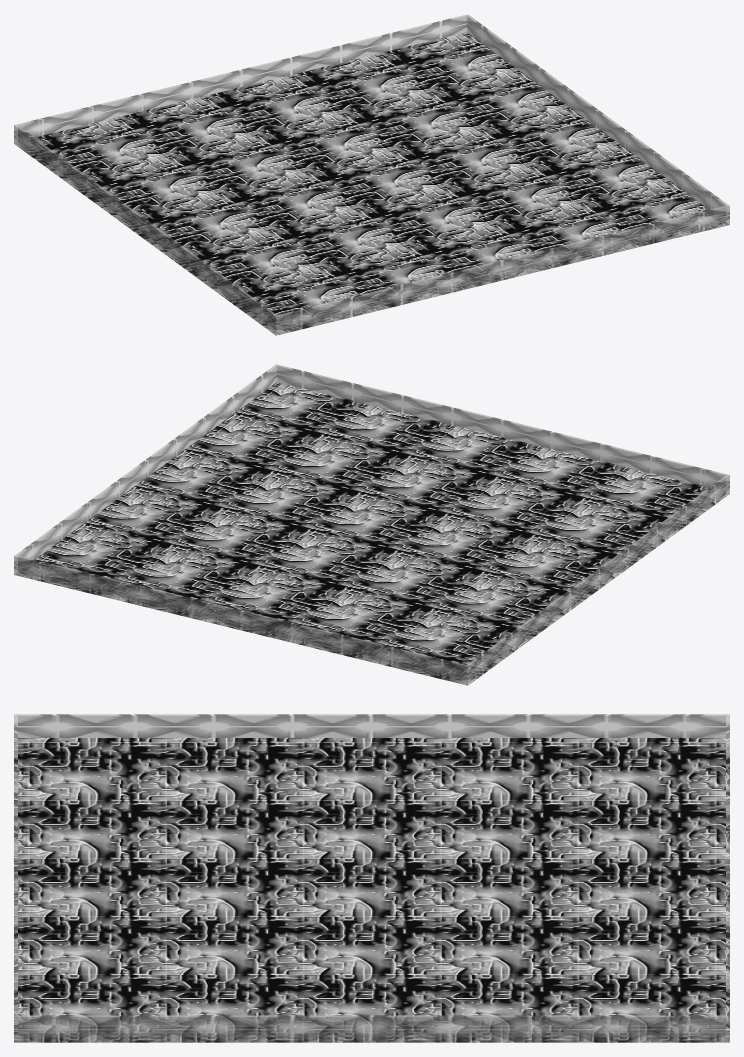
File: bounce_simple.gltf
The picture shows the model from 3 angles, top to bottom: view 1: azimuth 30°, elevation 25°; view 2: azimuth 150°, elevation 25°; view 3: azimuth 270°, elevation 25°; orthographic projection. The views are drawn at different scales.
Visible parts, largest first — view 1: Plane-col; view 2: Plane-col; view 3: Plane-col.
Part boxes in pixels (box(x1,y1,x2,y2)): Plane-col: box(14, 14, 729, 335); Plane-col: box(14, 364, 729, 685); Plane-col: box(14, 714, 729, 1042).
Bounding box in the file's own units: 73.02 × 2.9 × 73.02.
Materials: 2 (2 with a texture image).
